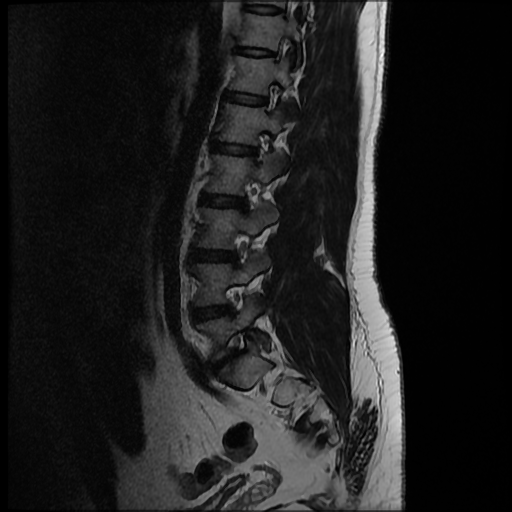LFS0: (241, 121, 277, 166), (227, 227, 262, 272), (219, 323, 259, 362), (239, 174, 274, 218), (221, 278, 258, 319)
